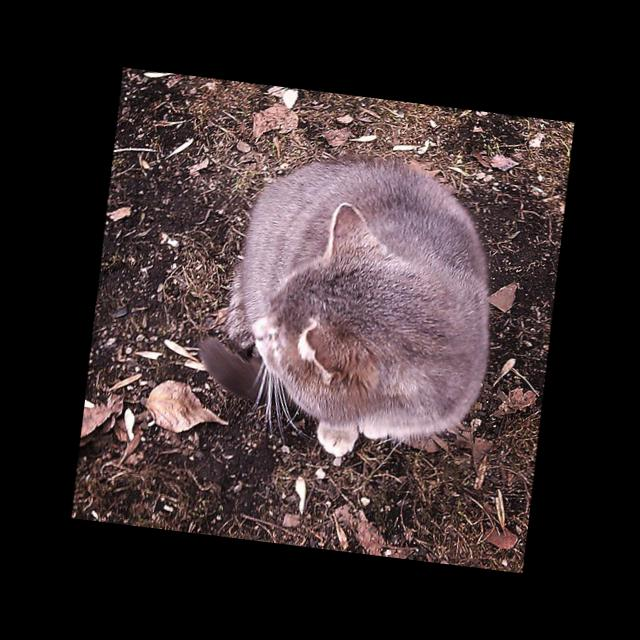animals: (186, 140, 509, 472)
